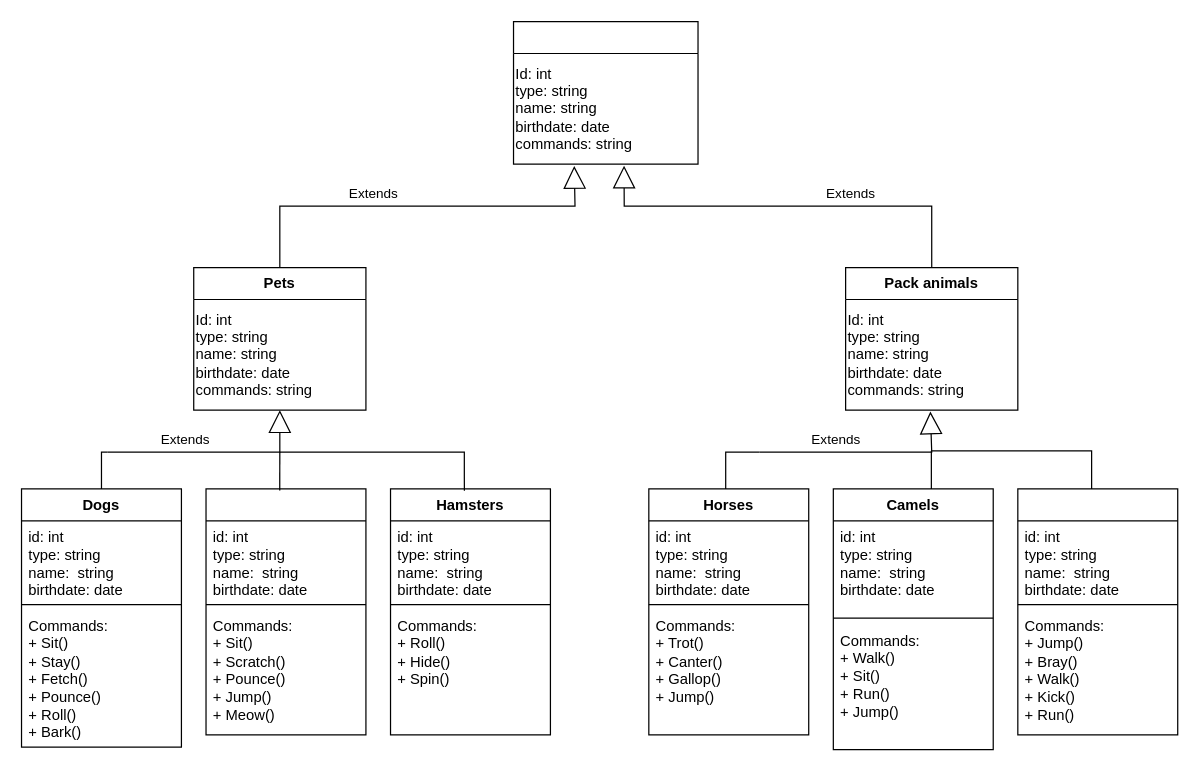
The diagram is 1199 pixels wide and 775 high, and some of its shapes have lost their labels. Each missing label, with the box of its shape:
Animals: (512, 20, 698, 164)
Cats: (205, 488, 366, 735)
Donkeys: (1017, 488, 1178, 735)
